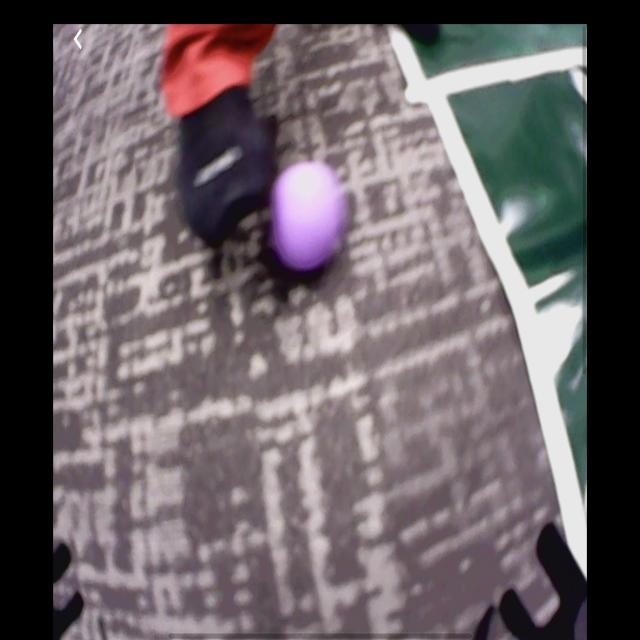ball: (272, 161, 341, 268)
